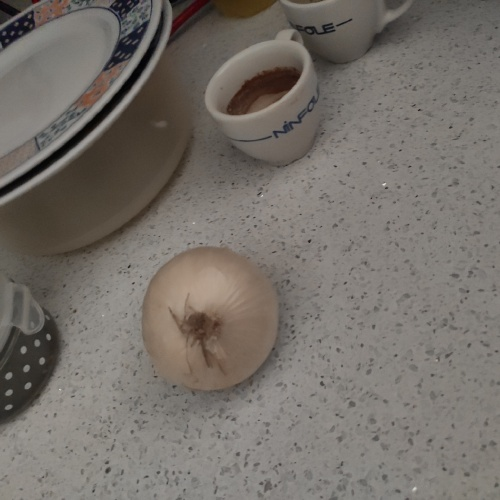cipolla: (131, 243, 287, 395)
